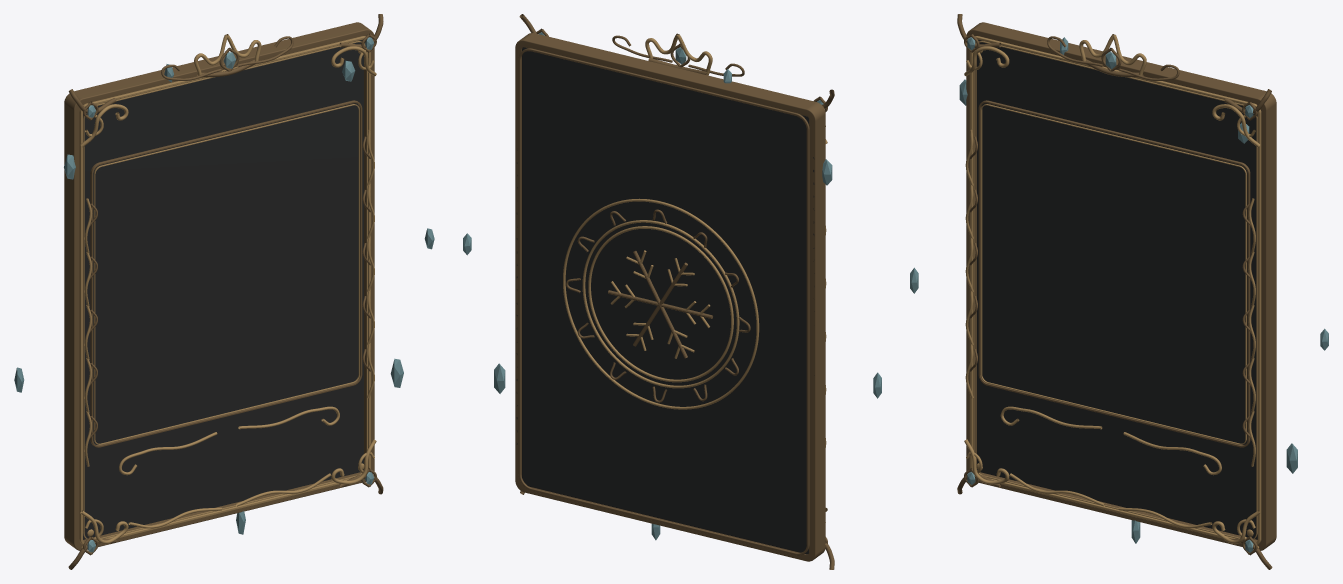
File: card-hardware.glb
3 views of the same model, side by side, from view 1: azimuth 30°, elevation 25°; view 2: azimuth 150°, elevation 25°; view 3: azimuth 330°, elevation 25° (orthographic).
Parts seen in each view (by area): view 1: Forged black iron.001 casting, Weathered bronze.001 casting, Worn gilding.001 casting, Moonstone.001 casting; view 2: Forged black iron.001 casting, Weathered bronze.001 casting, Worn gilding.001 casting; view 3: Forged black iron.001 casting, Weathered bronze.001 casting, Worn gilding.001 casting, Moonstone.001 casting.
Boxes of the visible parts, x1=… form: Forged black iron.001 casting: x1=83, y1=40, x2=363, y2=539; Weathered bronze.001 casting: x1=64, y1=14, x2=383, y2=569; Worn gilding.001 casting: x1=79, y1=34, x2=376, y2=547; Moonstone.001 casting: x1=87, y1=37, x2=374, y2=552; Forged black iron.001 casting: x1=516, y1=47, x2=814, y2=554; Weathered bronze.001 casting: x1=515, y1=14, x2=834, y2=569; Worn gilding.001 casting: x1=563, y1=33, x2=827, y2=544; Forged black iron.001 casting: x1=977, y1=40, x2=1257, y2=539; Weathered bronze.001 casting: x1=957, y1=14, x2=1276, y2=569; Worn gilding.001 casting: x1=964, y1=34, x2=1261, y2=547; Moonstone.001 casting: x1=967, y1=37, x2=1253, y2=552.
Bounding box in the file's own units: 4.45 × 5.16 × 0.4797.
